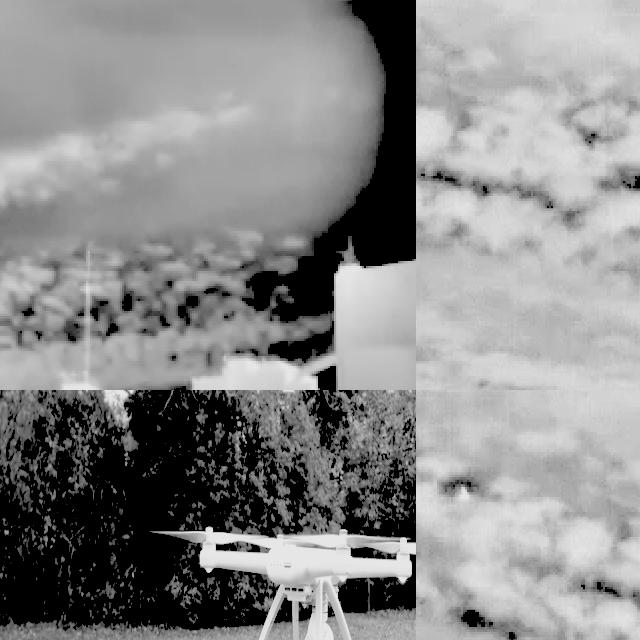0: (449, 487, 487, 515)
drone: (159, 517, 416, 640)
